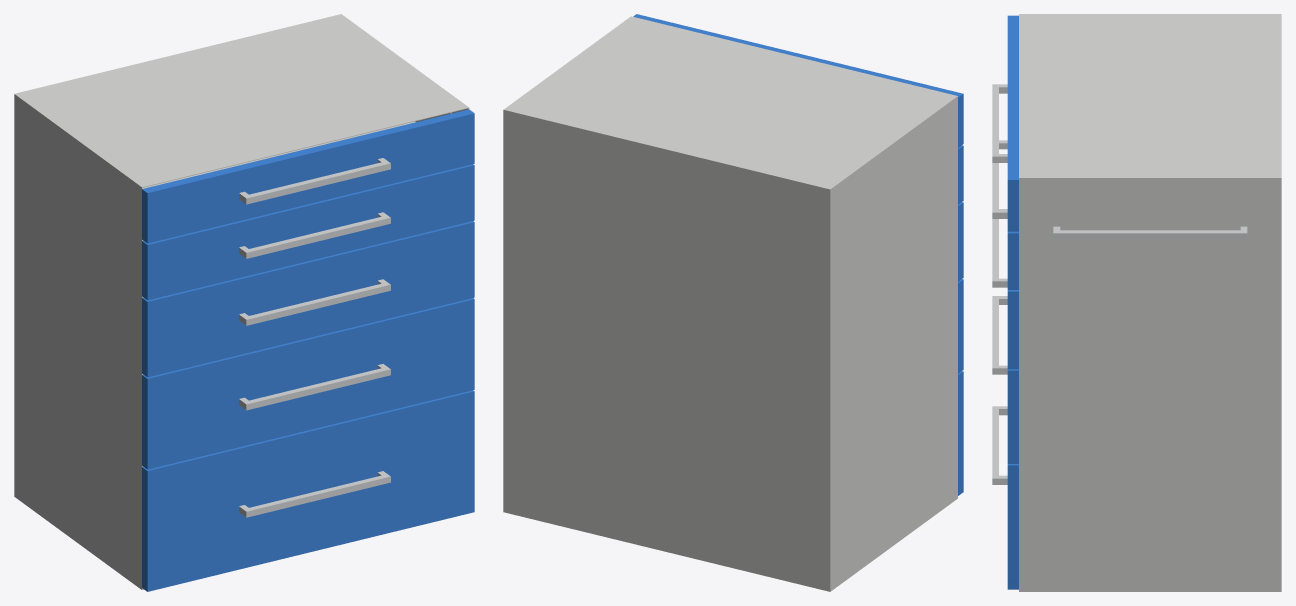
File: tb-rollcab.glb
3 views of the same model, side by side, from view 1: azimuth 30°, elevation 25°; view 2: azimuth 150°, elevation 25°; view 3: azimuth 270°, elevation 25° (orthographic). The views are drawn at different scales.
Visible parts, largest first — view 1: body, drawer-1, drawer-2, drawer-3, drawer-4, drawer-5; view 2: body, drawer-5, drawer-1; view 3: body, drawer-5, drawer-1, drawer-2, drawer-3, drawer-4.
Part boxes in pixels (x1,y1,x2,y2): body: (14, 14, 469, 589); drawer-1: (142, 390, 474, 591); drawer-2: (142, 298, 474, 469); drawer-3: (142, 221, 474, 377); drawer-4: (142, 164, 474, 300); drawer-5: (142, 109, 474, 243); body: (503, 16, 957, 591); drawer-5: (633, 14, 963, 147); drawer-1: (958, 371, 963, 495); body: (1019, 14, 1281, 591); drawer-5: (992, 15, 1018, 231); drawer-1: (992, 406, 1018, 589); drawer-2: (992, 296, 1018, 463); drawer-3: (992, 209, 1018, 369); drawer-4: (992, 140, 1018, 289).
Size of what is drawn, in the model's own units: 0.707 by 0.8 by 0.507.
